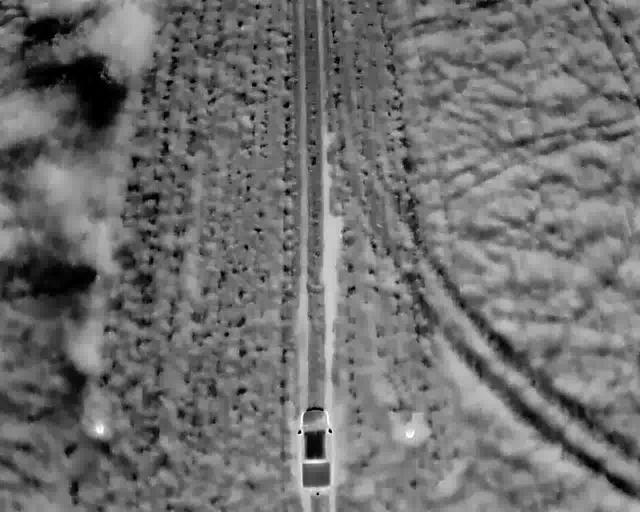car: (294, 402, 334, 496)
